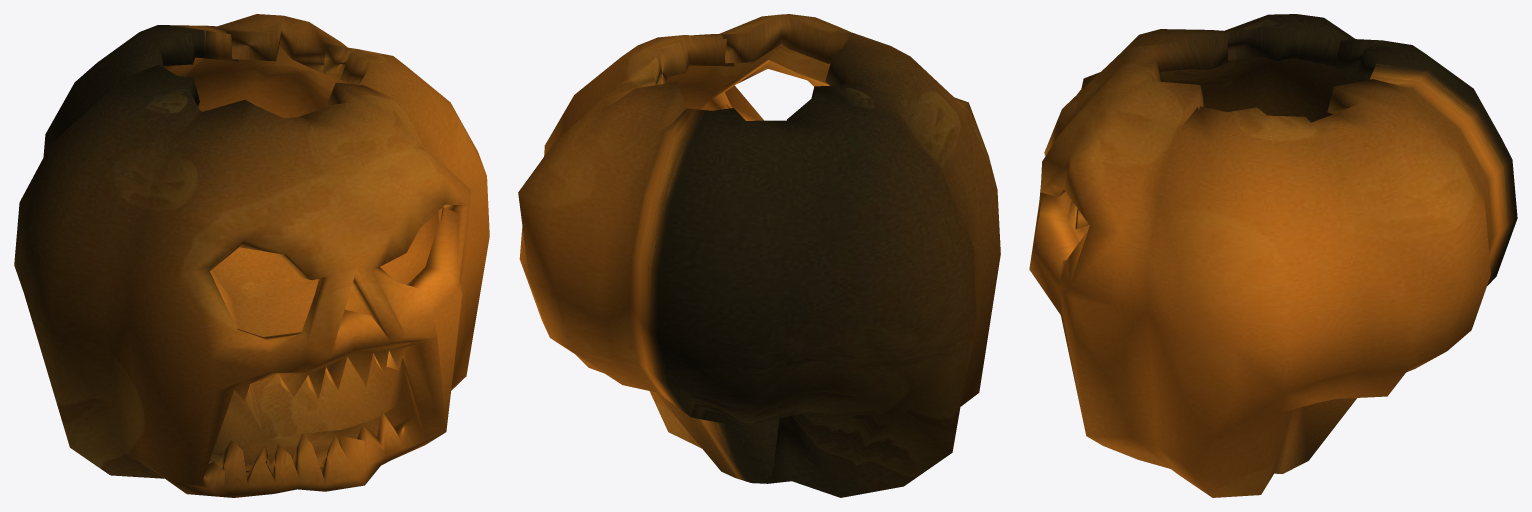
Rendered from Pumpkin.glb.
3 renders of one model, left to right at view 1: azimuth 30°, elevation 25°; view 2: azimuth 150°, elevation 25°; view 3: azimuth 270°, elevation 25°, orthographic.
Visible parts, largest first — view 1: pumpkin; view 2: pumpkin; view 3: pumpkin.
Part boxes in pixels (<box>): pumpkin: <box>14,14,489,497</box>; pumpkin: <box>518,14,1000,497</box>; pumpkin: <box>1029,14,1517,497</box>.
Size of the model in its own units: 23.9 by 21.77 by 24.07.
1 material, 1 textured.
